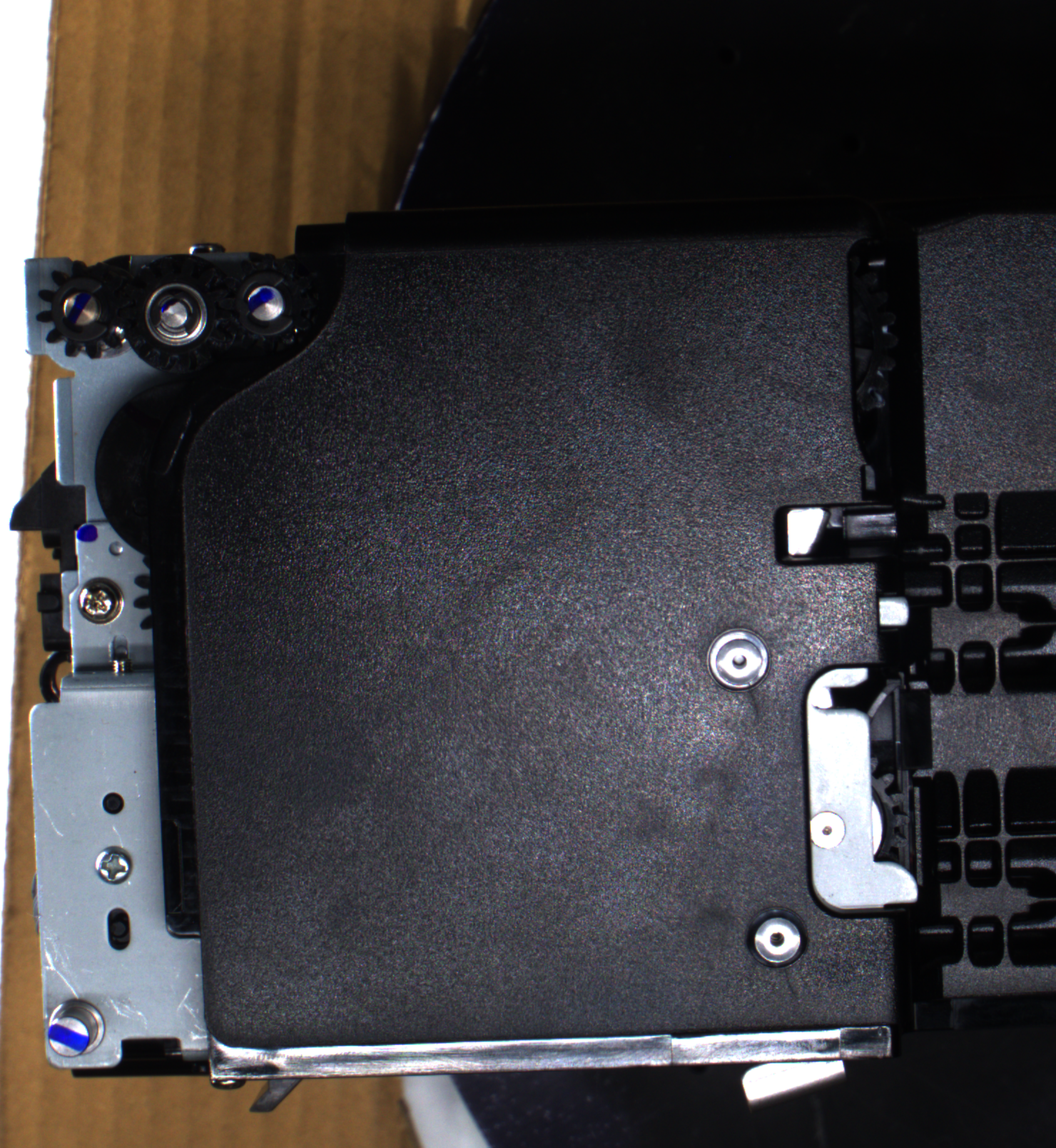centre_pin_presence: (735, 1044, 853, 1109)
centre_plate_presence: (799, 657, 927, 923)
centre_screw_presence: (703, 622, 776, 700), (741, 901, 812, 975)
gear1_presence: (34, 259, 135, 360)
gear2_presence: (118, 252, 234, 374)
gear3_presence: (214, 252, 316, 358)
side_screw_presence: (74, 575, 126, 625), (91, 843, 136, 886)
slanting_pin_presence: (41, 994, 113, 1066)
